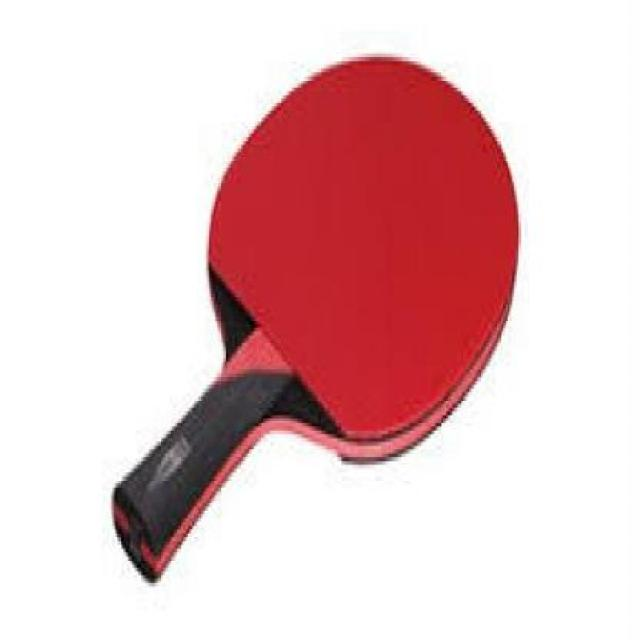table_tennis_racket: (204, 48, 524, 468)
